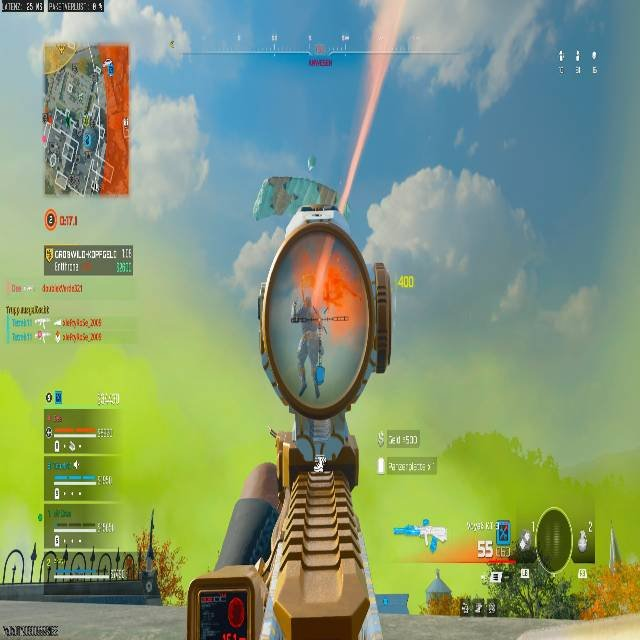head: (231, 174, 391, 418)
